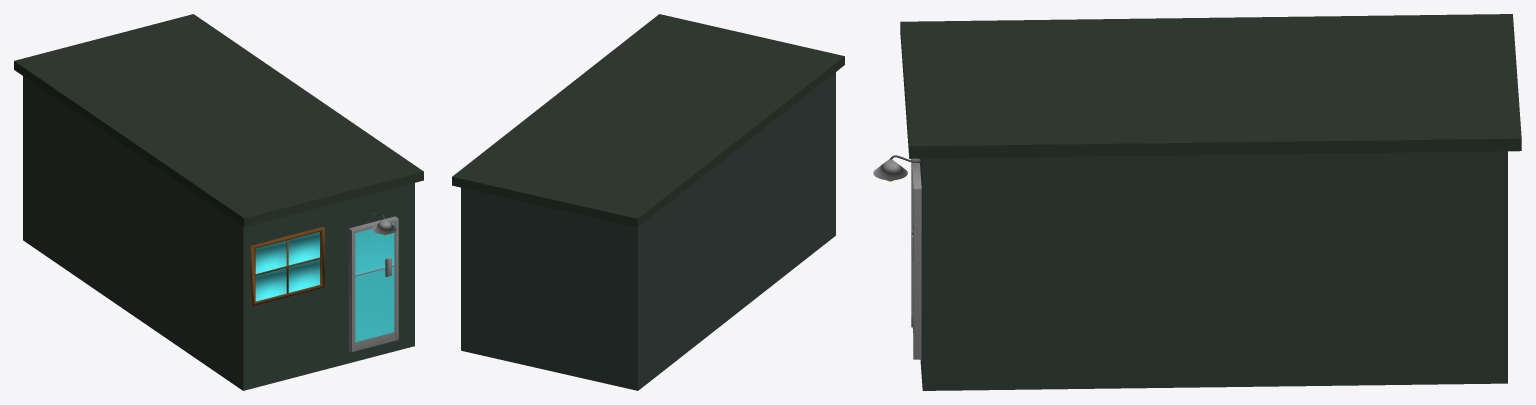
File: bank_compressed.glb
3 views of the same model, side by side, from view 1: azimuth 30°, elevation 25°; view 2: azimuth 150°, elevation 25°; view 3: azimuth 270°, elevation 25° (orthographic). The views are drawn at different scales.
Parts seen in each view (by area): view 1: Cube.330, Cube.329, Cube.328, Cube.333; view 2: Cube.330; view 3: Cube.330, Cube.328.
Boxes of the visible parts, x1,y1,x2,y2 form: Cube.330: [14, 14, 423, 390]; Cube.329: [255, 223, 394, 342]; Cube.328: [348, 216, 398, 352]; Cube.333: [250, 226, 324, 306]; Cube.330: [452, 14, 844, 390]; Cube.330: [900, 14, 1521, 390]; Cube.328: [911, 158, 921, 359].
Bounding box in the file's own units: 1.22 × 1.06 × 2.53.
